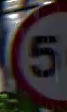Speed limit: (9, 3, 66, 107)
